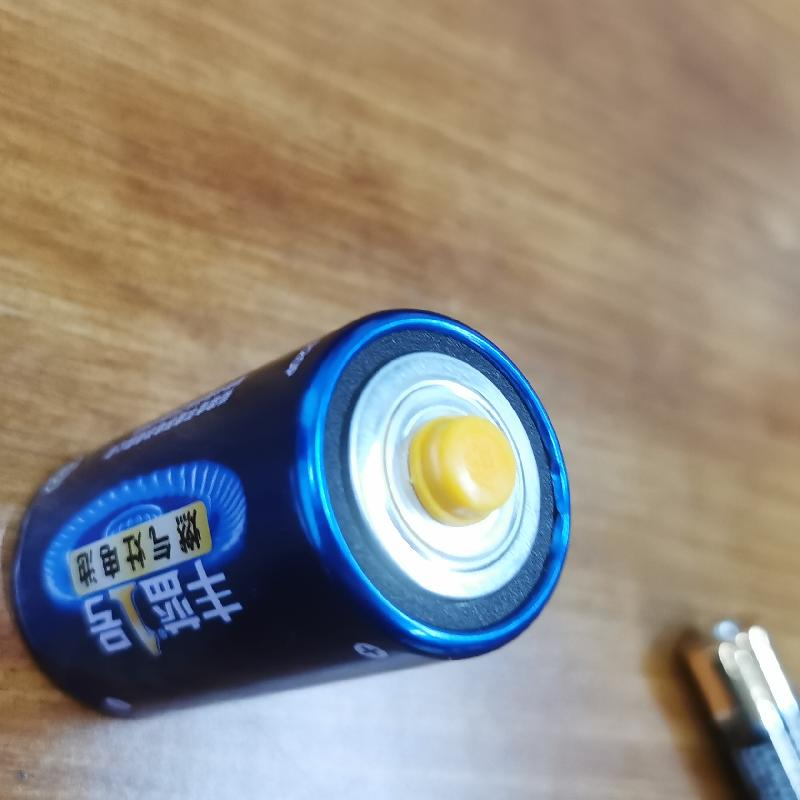battery: (8, 308, 575, 725)
